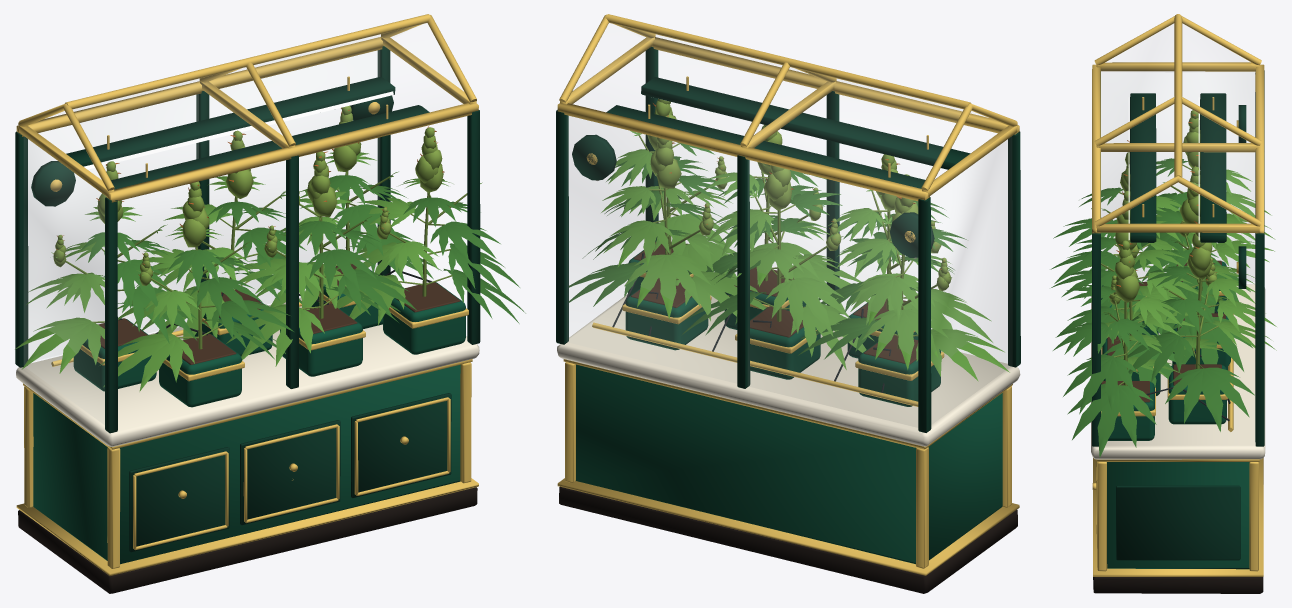
The model's file is grow_bench_founder.glb.
3 renders of one model, left to right at view 1: azimuth 30°, elevation 25°; view 2: azimuth 150°, elevation 25°; view 3: azimuth 270°, elevation 25°, orthographic. The views are drawn at different scales.
Parts seen in each view (by area): view 1: Body, GlassEnd, Top, GlassBack, Plinth, Panel1, Panel2, Panel0, LedBar1, PlinthBrass, Eave-0.42, Eave0.42 (+60 smaller); view 2: GlassBack, Body, Top, GlassEnd, Plinth, LedBar0, Eave0.42, PlinthBrass, Eave-0.42, Ridge, LedBar1, FramePost-0.980.42 (+48 smaller); view 3: EndPanel, Top, Body, LedBar1, LedBar0, Plinth, P2Leaf00, P5Leaf00, PlinthBrass, FramePost0.980.42, P5Leaf13, Rafter0.98 (+51 smaller).
Boxes of the visible parts, x1,y1,x2,y2 form: Body: (33,364,460,564); GlassEnd: (24,137,105,424); Top: (16,297,479,446); GlassBack: (39,125,379,332); Plinth: (18,487,477,593); Panel1: (240,420,340,525); Panel2: (351,393,451,498); Panel0: (129,447,229,552); LedBar1: (66,77,395,166); PlinthBrass: (16,478,478,575); Eave-0.42: (106,103,478,202); Eave0.42: (16,37,383,136); GlassBack: (567,116,917,426); Body: (576,364,1002,564); Top: (557,294,1020,446); GlassEnd: (930,137,1011,423); Plinth: (559,486,1017,593); LedBar0: (641,77,970,169); Eave0.42: (557,103,929,201); PlinthBrass: (557,478,1019,575); Eave-0.42: (651,37,1019,134); Ridge: (605,14,971,109); LedBar1: (606,105,925,188); FramePost-0.980.42: (918,197,931,432); EndPanel: (1116,485,1240,560); Top: (1091,284,1265,459); Body: (1107,462,1249,569); LedBar1: (1200,93,1226,242); LedBar0: (1130,93,1156,242); Plinth: (1093,577,1263,593); P2Leaf00: (1165,367,1254,431); P5Leaf00: (1067,383,1156,457); PlinthBrass: (1093,458,1263,576); FramePost0.980.42: (1255,232,1264,446); P5Leaf13: (1063,354,1138,414); Rafter0.98: (1096,223,1259,232).
Bounding box in the file's own units: 2.5 × 2.37 × 1.17.
